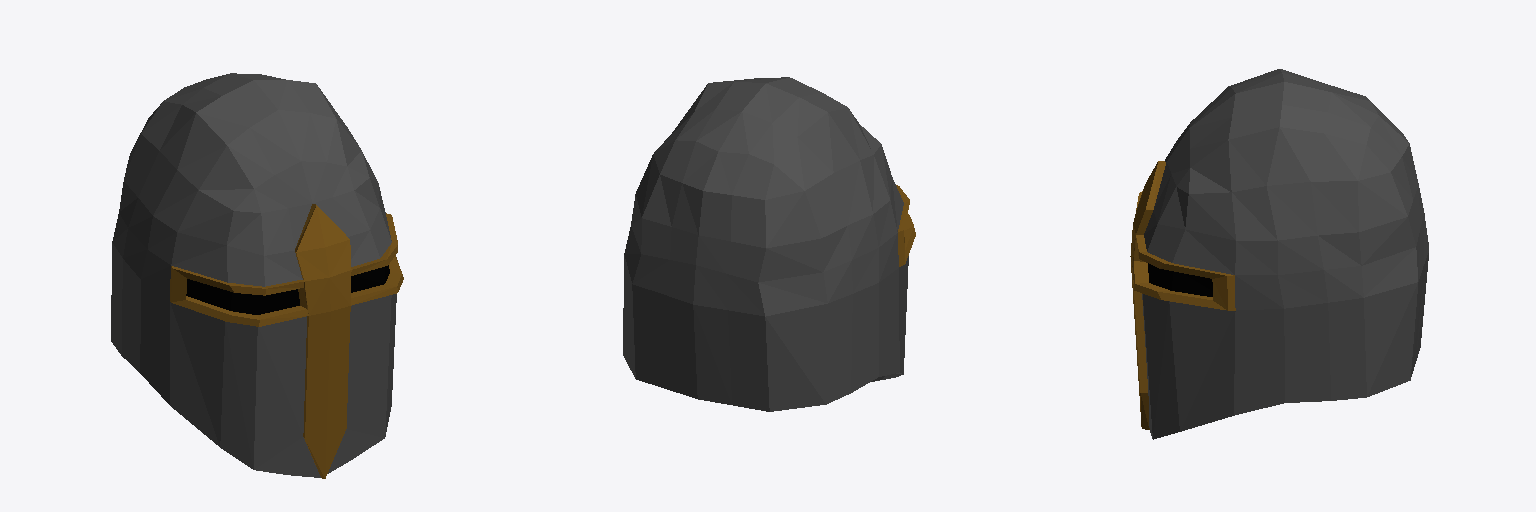
File: Helmet3.obj
The picture shows the model from 3 angles: view 1: azimuth 30°, elevation 25°; view 2: azimuth 150°, elevation 25°; view 3: azimuth 270°, elevation 25°; orthographic projection.
Parts seen in each view (by area): view 1: Helmet3__ncl1_29.003; view 2: Helmet3__ncl1_29.003; view 3: Helmet3__ncl1_29.003.
Part boxes in pixels (bbox=[...]): Helmet3__ncl1_29.003: bbox=[111, 73, 403, 478]; Helmet3__ncl1_29.003: bbox=[623, 77, 915, 411]; Helmet3__ncl1_29.003: bbox=[1130, 69, 1428, 439].
Bounding box in the file's own units: 1.34 × 1.97 × 1.53.